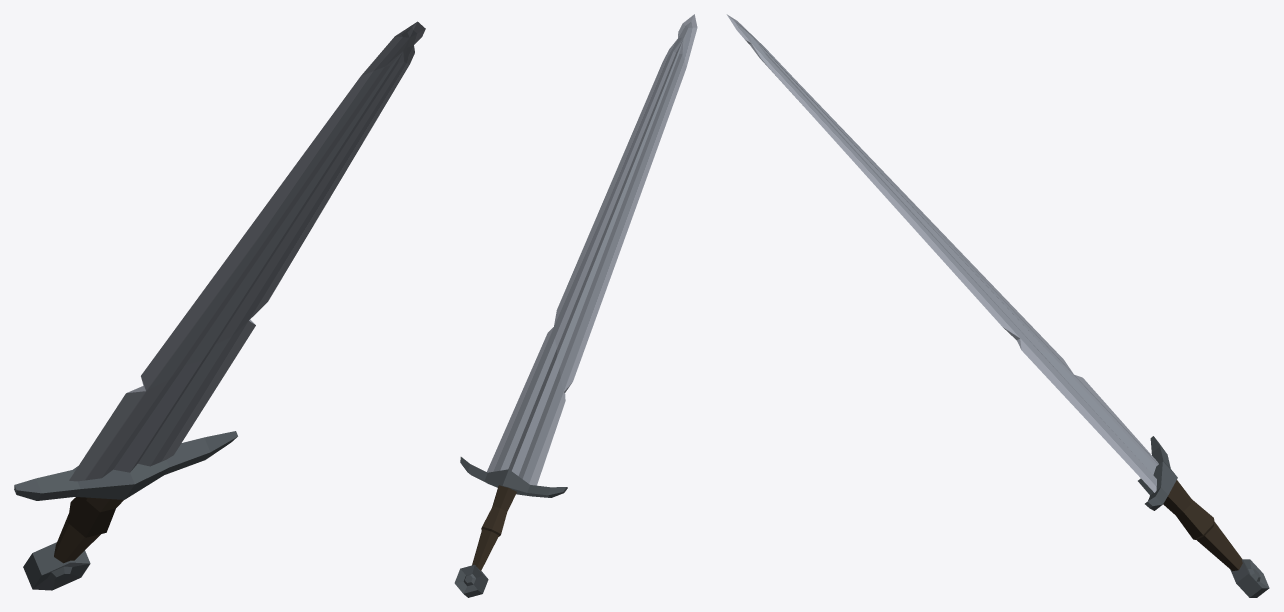
Rendered from fk-sword-03.glb.
The picture shows the model from 3 angles, left to right: view 1: azimuth 30°, elevation 25°; view 2: azimuth 150°, elevation 25°; view 3: azimuth 270°, elevation 25°; orthographic projection. The views are drawn at different scales.
Visible parts, largest first — view 1: fk-sword-03; view 2: fk-sword-03; view 3: fk-sword-03.
Part boxes in pixels (bbox=[...]): fk-sword-03: bbox=[14, 21, 425, 590]; fk-sword-03: bbox=[454, 14, 697, 597]; fk-sword-03: bbox=[726, 14, 1269, 597].
Size of the model in its own units: 0.2995 by 1.16 by 1.
Materials: 1 (1 with a texture image).
